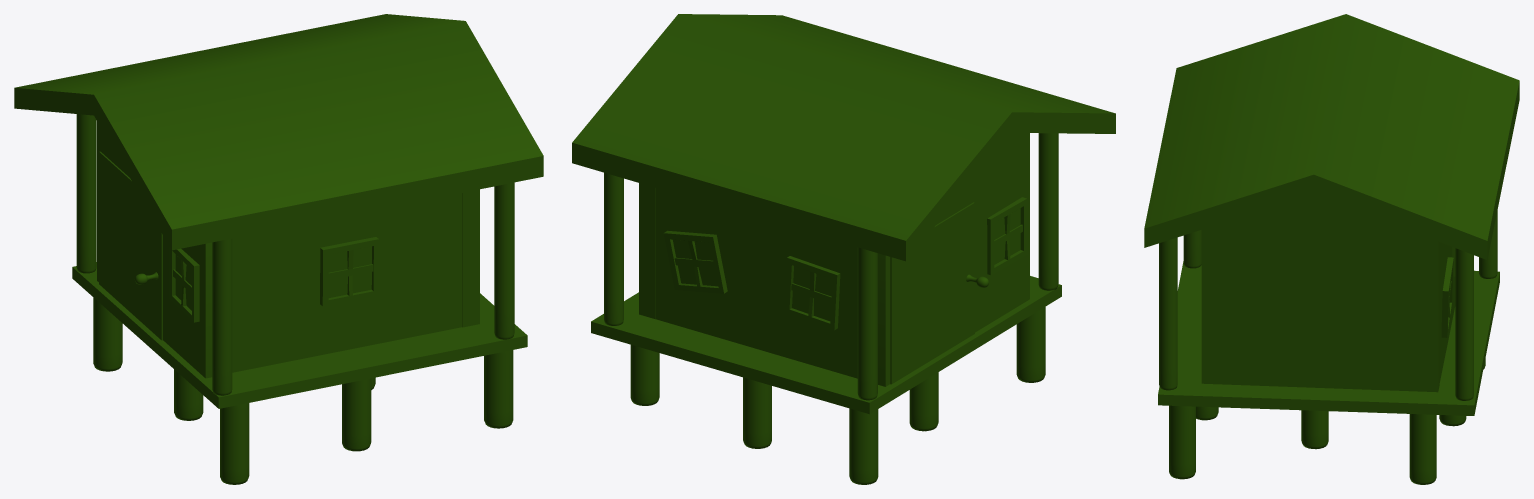
Rendered from House2.fbx.
The picture shows the model from 3 angles, left to right: view 1: azimuth 30°, elevation 25°; view 2: azimuth 150°, elevation 25°; view 3: azimuth 270°, elevation 25°; orthographic projection. The views are drawn at different scales.
Visible parts, largest first — view 1: House1; view 2: House1; view 3: House1.
Part boxes in pixels (<box>): House1: <box>14,14,543,484</box>; House1: <box>572,14,1115,484</box>; House1: <box>1144,14,1519,484</box>.
Size of the model in its own units: 6.98 by 5.98 by 6.4.
